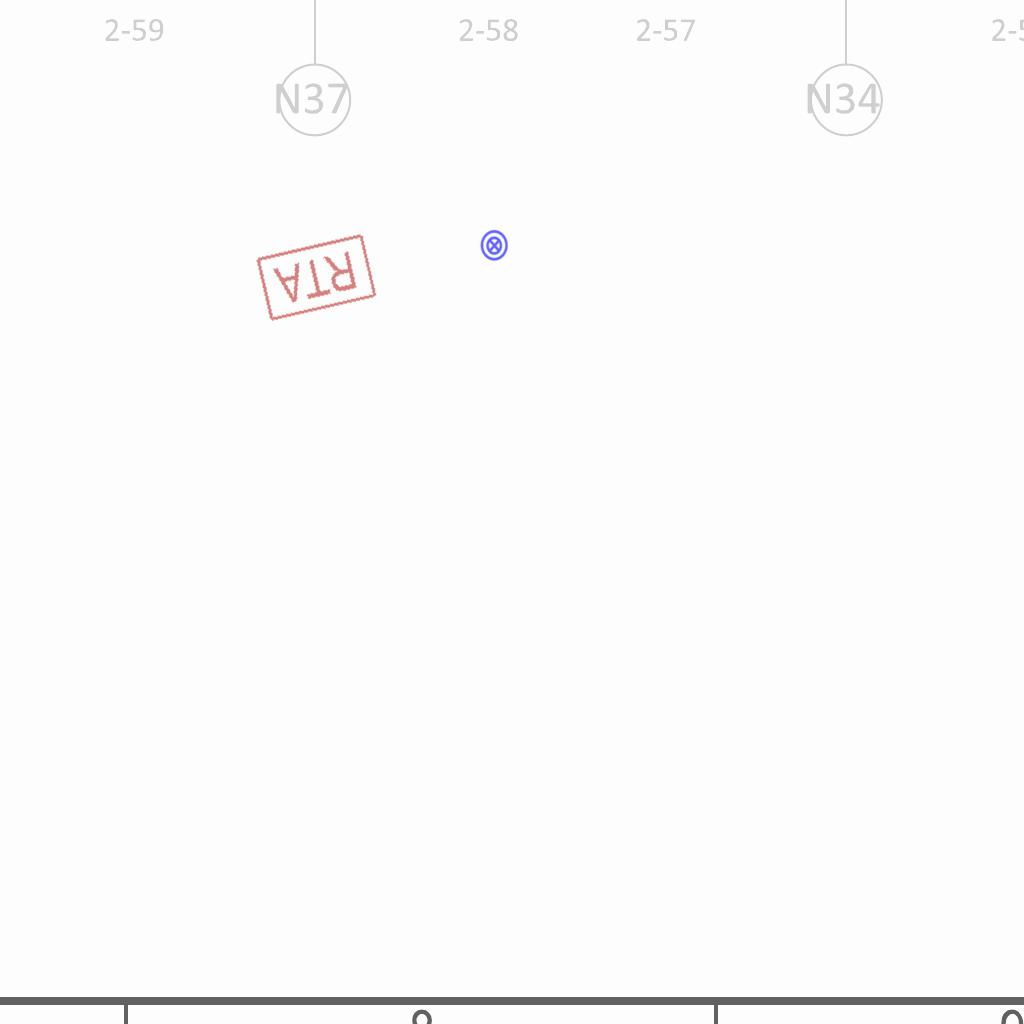Ruf-und_Abstelltaster: (254, 230, 381, 324)
Taster_beleuchtet: (478, 229, 511, 262)
